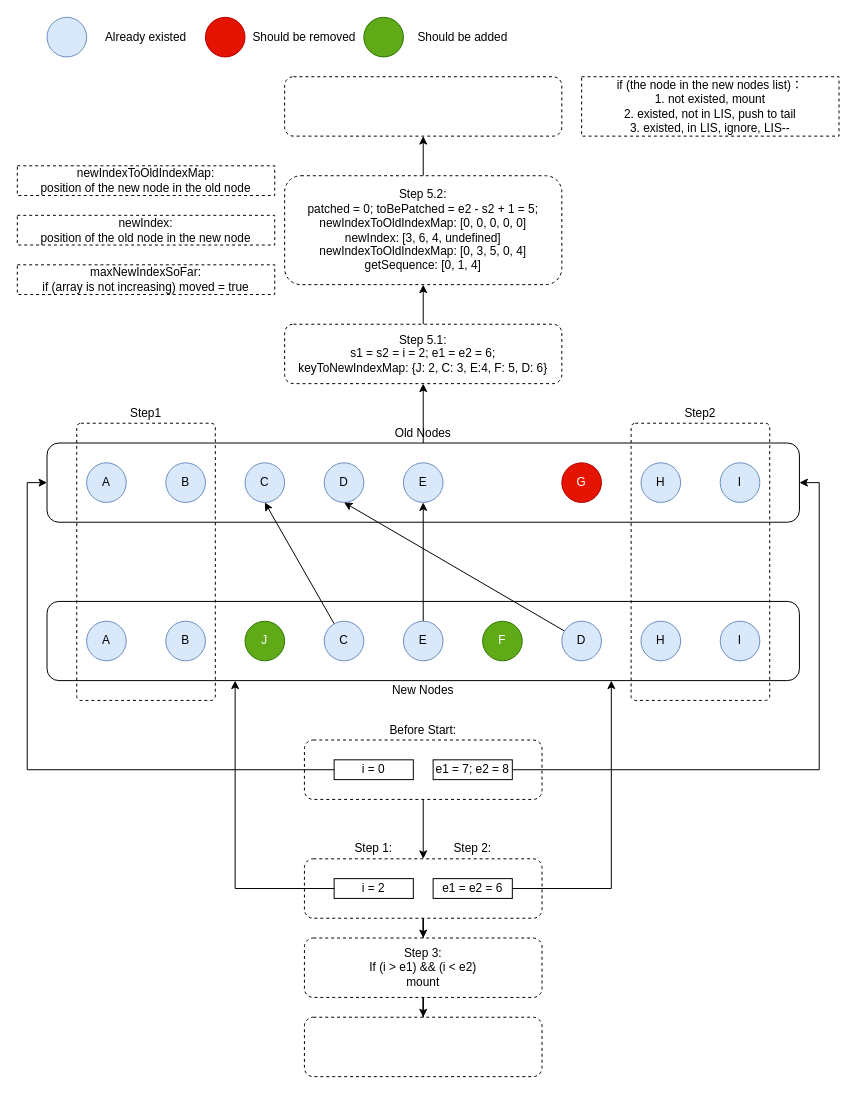
Some shapes in this 856 by 1094 pixel diagram are drawn without their labels. Here are the shapes that lost their labels. From the top down, the centre of each, then its label:
At [423,106]: "Longest_increasing_subsequence： Set the maximum nodes that no need to be moved.".
At [422,1046]: "Step 4: If (i > e2) && (i <= e1) unmount".
